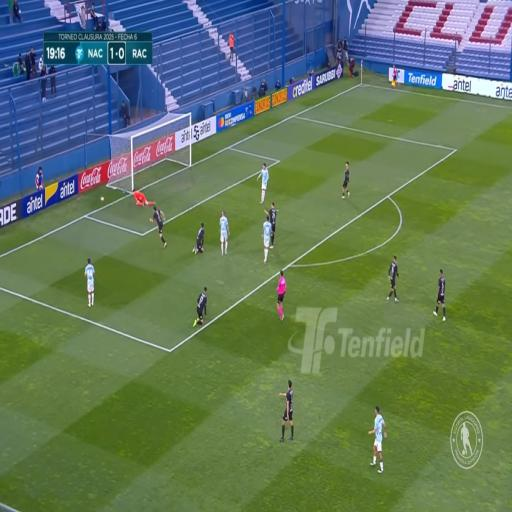Ball: (99, 195, 105, 202)
Goalkeeper: (132, 189, 158, 210)
Player: (371, 404, 386, 473), (280, 377, 296, 441), (193, 284, 210, 327), (434, 267, 446, 319), (84, 258, 96, 306), (386, 254, 398, 300), (153, 204, 164, 248), (268, 202, 278, 249), (220, 210, 230, 256), (194, 224, 206, 254), (341, 159, 350, 197), (261, 159, 268, 203), (264, 220, 270, 264)
Referee: (273, 271, 287, 327), (393, 61, 397, 85)
